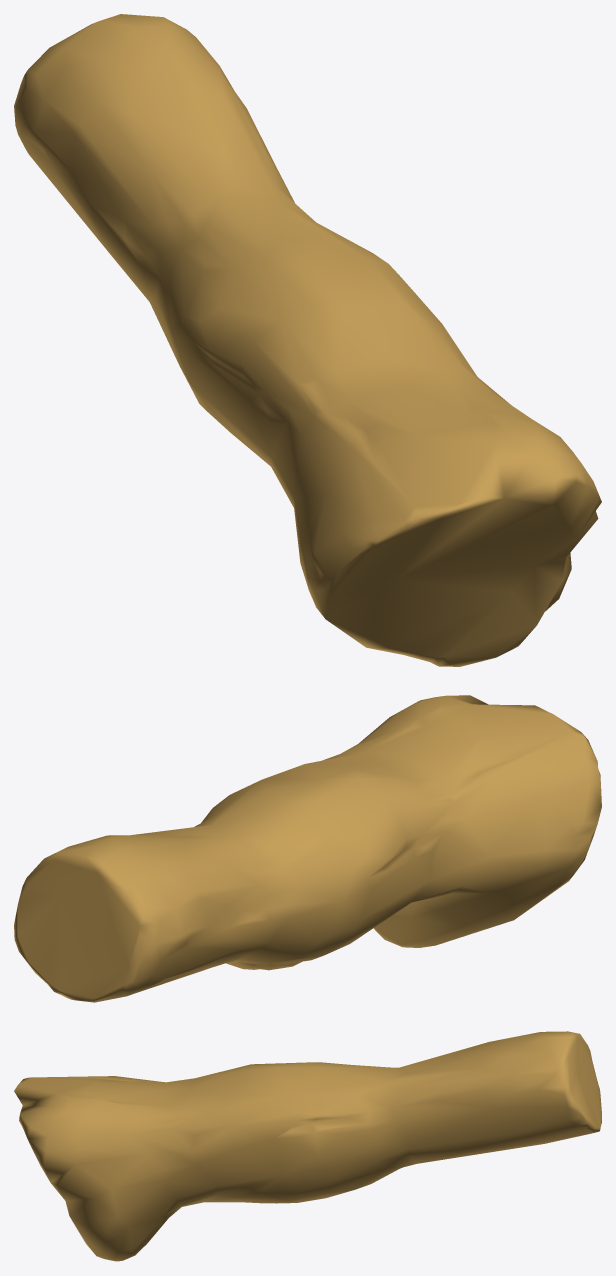
3 renders of one model, top to bottom at view 1: azimuth 30°, elevation 25°; view 2: azimuth 150°, elevation 25°; view 3: azimuth 270°, elevation 25°, orthographic. The views are drawn at different scales.
Parts seen in each view (by area): view 1: 右侧甲状舌骨外侧韧带; view 2: 右侧甲状舌骨外侧韧带; view 3: 右侧甲状舌骨外侧韧带.
Boxes of the visible parts, x1=… form: 右侧甲状舌骨外侧韧带: x1=14, y1=14, x2=601, y2=666; 右侧甲状舌骨外侧韧带: x1=14, y1=695, x2=601, y2=1002; 右侧甲状舌骨外侧韧带: x1=14, y1=1031, x2=601, y2=1261.
Size of the model in its own units: 0.00533 by 0.00665 by 0.0156.
